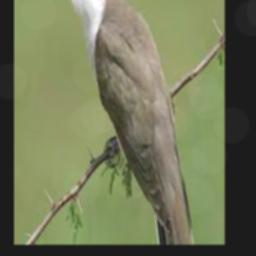Cuckoo: (54, 0, 195, 245)
